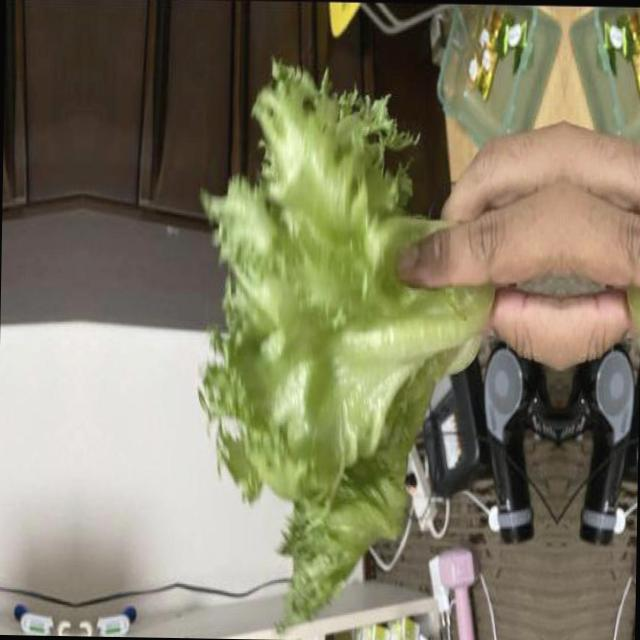healthy: (194, 54, 491, 637), (627, 61, 640, 639)
